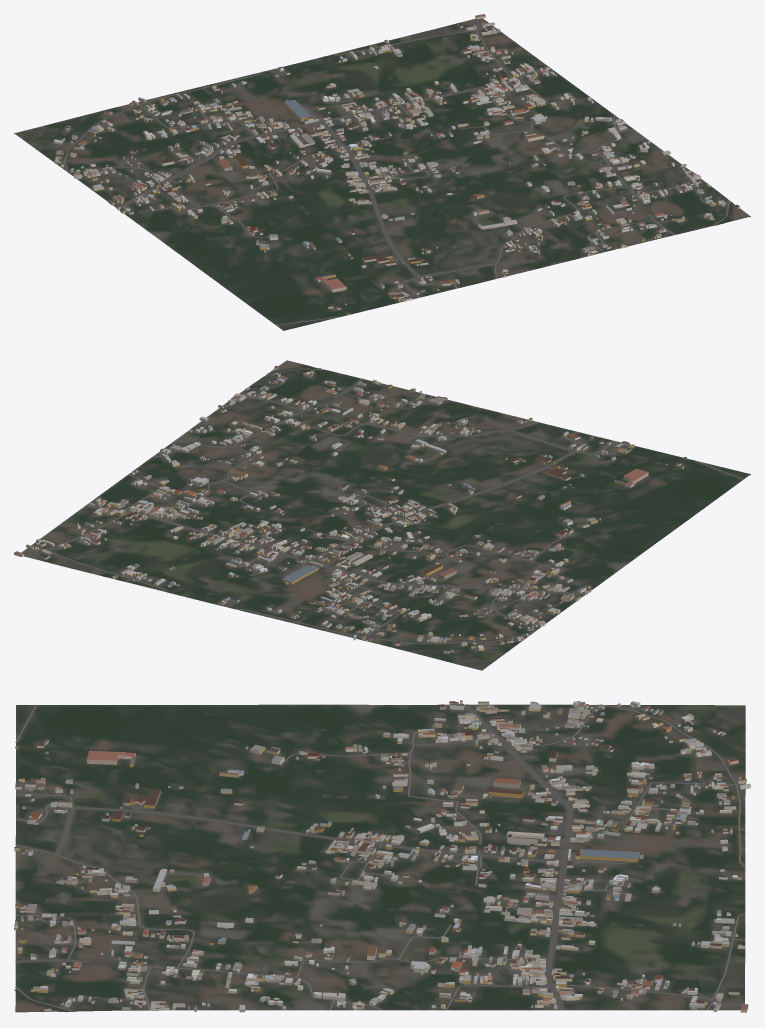
3 renders of one model, top to bottom at view 1: azimuth 30°, elevation 25°; view 2: azimuth 150°, elevation 25°; view 3: azimuth 270°, elevation 25°, orthographic. The views are drawn at different scales.
Visible parts, largest first — view 1: ground, buildings, roads; view 2: ground, buildings, roads; view 3: ground, buildings, roads, water.
Part boxes in pixels (bbox=[...]): ground: bbox=[14, 18, 750, 330]; buildings: bbox=[53, 14, 739, 315]; roads: bbox=[64, 18, 730, 325]; ground: bbox=[21, 360, 750, 670]; buildings: bbox=[14, 366, 686, 653]; roads: bbox=[24, 368, 743, 644]; ground: bbox=[15, 704, 745, 1012]; buildings: bbox=[14, 700, 750, 1012]; roads: bbox=[15, 704, 745, 1011]; water: bbox=[14, 800, 255, 1012].
Size of the model in its own units: 1414 by 22.29 by 1415.
